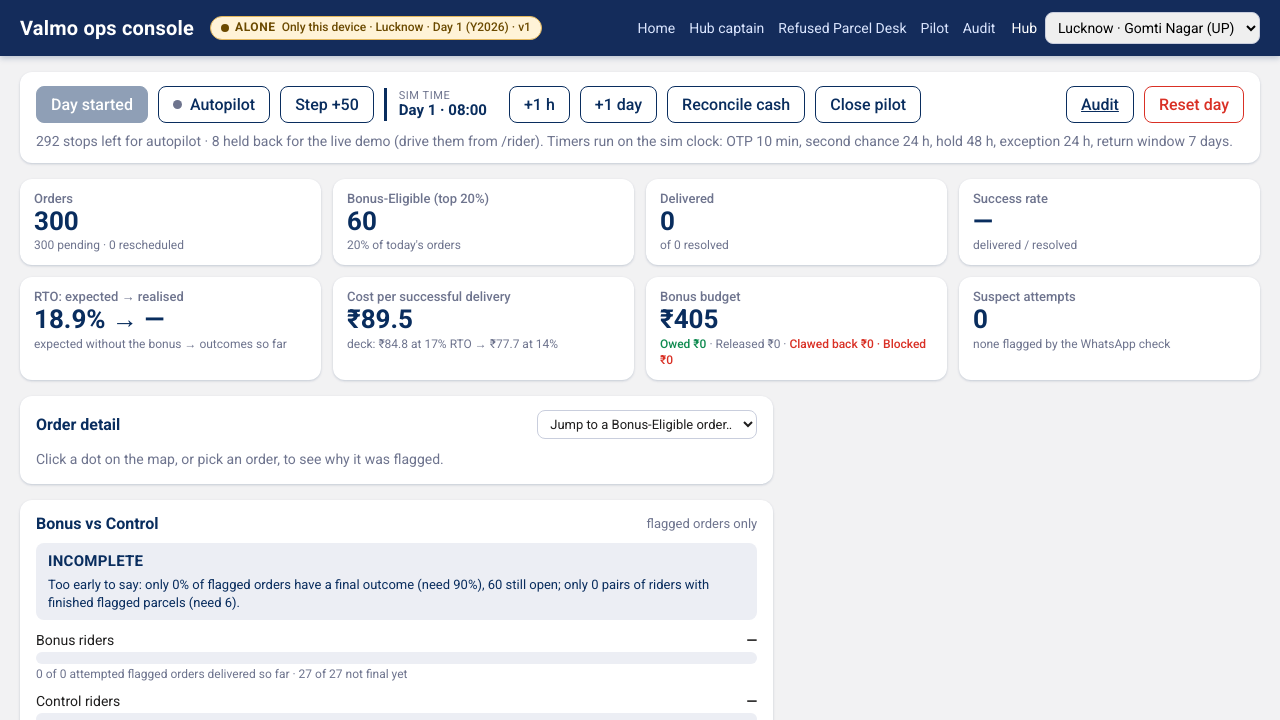
ops: the sim clock, Close pilot and the Audit › shows the sim time and moves it with +1 h and +1 day
The width and height of the screenshot is (1280, 720).
Expected: the text "Day 1 · 08:00" is shown, [399,102,487,120]
Click the button "+1 h".
click(539, 104)  # box [509,86,570,123]
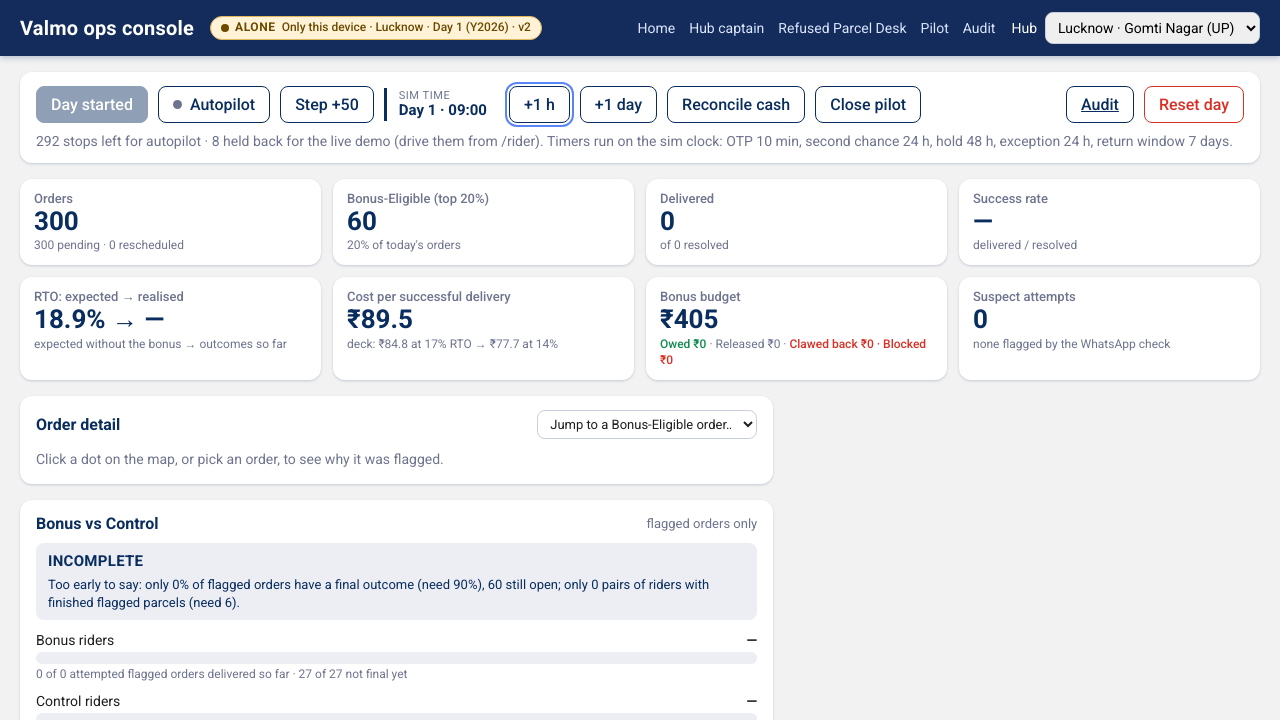
Now the text "Day 1 · 09:00" is shown, box [399,102,487,120]
Click the button "+1 day".
click(618, 104)  # box [580,86,657,123]
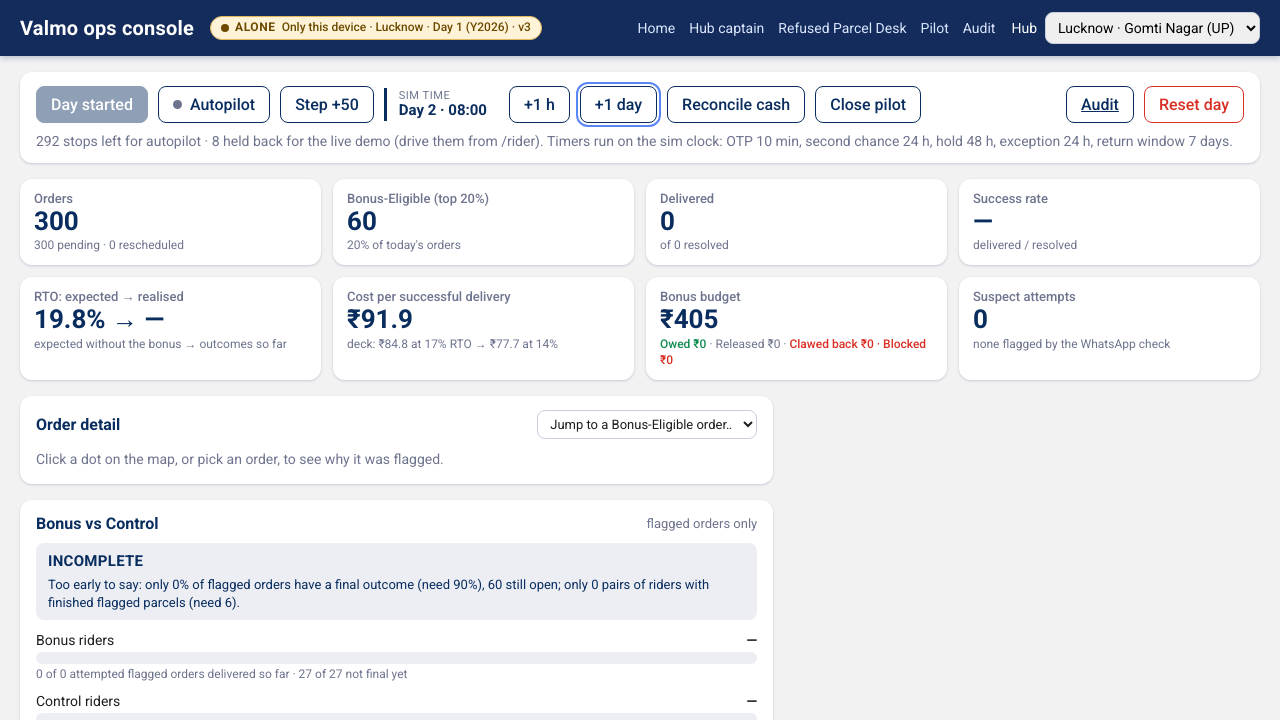
Now the text "Day 2 · 08:00" is shown, box [399,102,487,120]
